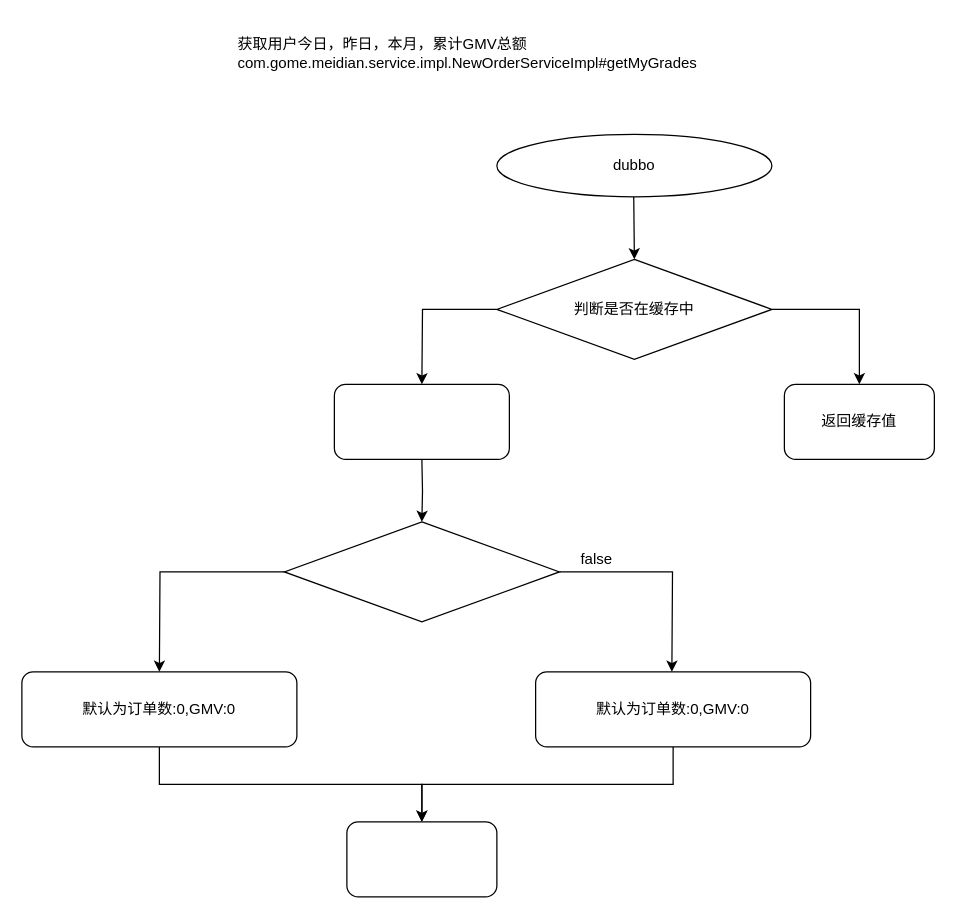
Image size: 956x919. Some labels were removed from this diagram. Each missing label, with the centre of its shape:
"判断是否存在" belongs at (x=421, y=571).
"查询mongodb" belongs at (x=421, y=421).
"返回" belongs at (x=421, y=859).
